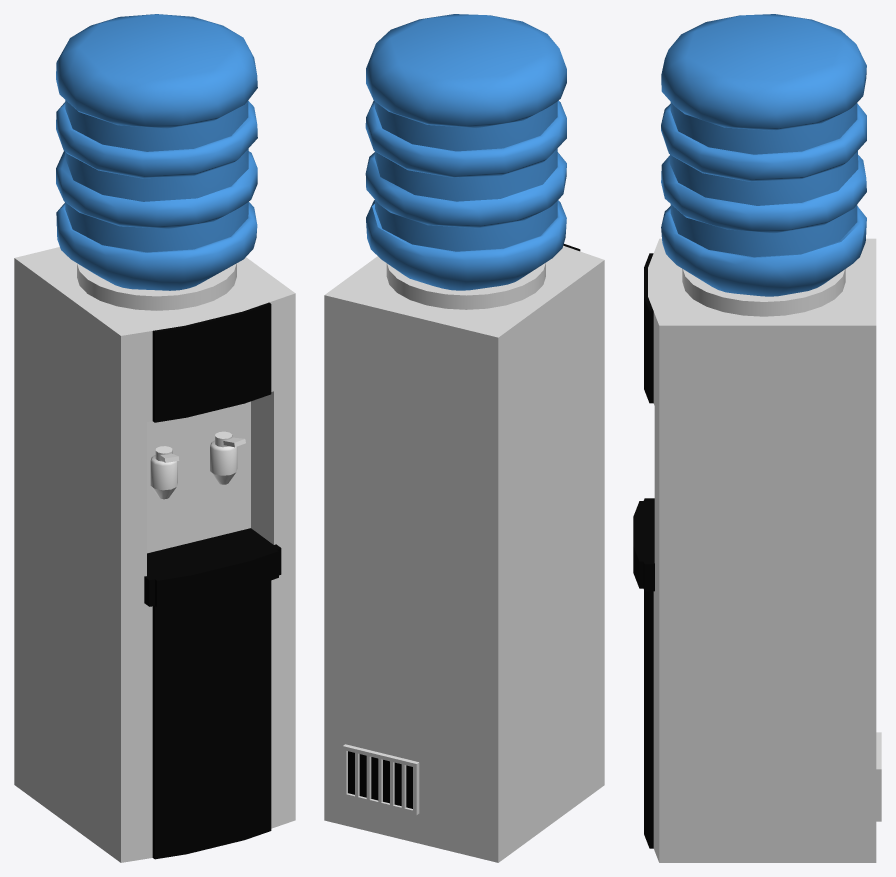
File: water machine.fbx
3 renders of one model, left to right at view 1: azimuth 30°, elevation 25°; view 2: azimuth 150°, elevation 25°; view 3: azimuth 270°, elevation 25°, orthographic. The views are drawn at different scales.
Visible parts, largest first — view 1: Cube, Cylinder.003, Cube.003, Cylinder.002, Cylinder; view 2: Cube, Cylinder.003, Cylinder.002, Cube.004, Cube.005; view 3: Cube, Cylinder.003, Cylinder.002, Cube.003, Cube.004.
Boxes of the visible parts, x1,y1,x2,y2 form: Cube: (14,247,295,862); Cylinder.003: (56,14,257,290); Cube.003: (144,528,281,607); Cylinder.002: (77,263,236,310); Cylinder: (150,440,237,499); Cube: (324,244,604,862); Cylinder.003: (365,14,566,290); Cylinder.002: (386,262,545,309); Cube.004: (342,744,419,815); Cube.005: (348,751,412,808); Cube: (644,238,876,862); Cylinder.003: (661,14,866,296); Cylinder.002: (682,269,845,316); Cube.003: (633,498,654,591); Cube.004: (876,732,881,821).
Bounding box in the file's own units: 200 × 828 × 242.
